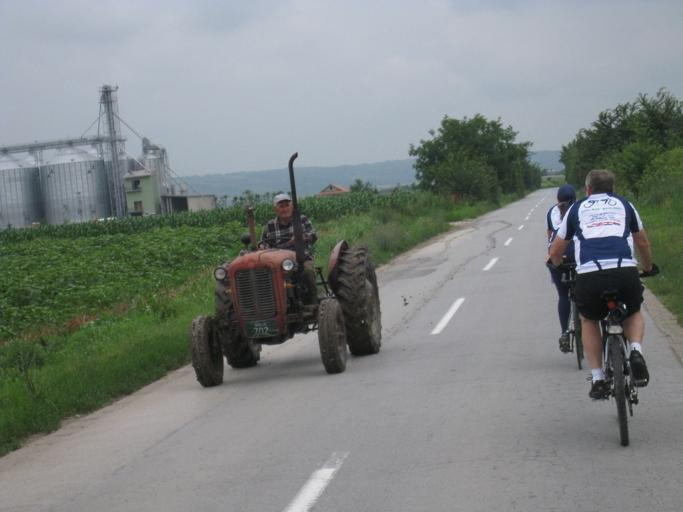non-vehicle: (559, 261, 661, 449), (557, 262, 586, 369)
